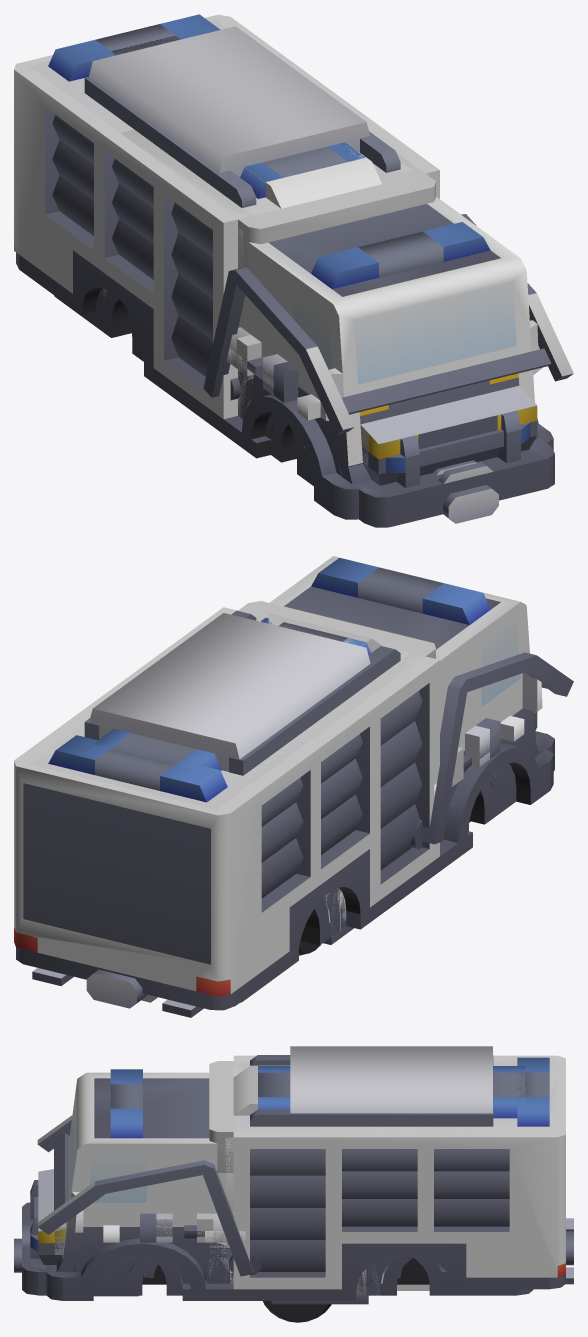
The model's file is cars.glb.
The picture shows the model from 3 angles, top to bottom: view 1: azimuth 30°, elevation 25°; view 2: azimuth 150°, elevation 25°; view 3: azimuth 270°, elevation 25°; orthographic projection. The views are drawn at different scales.
Visible parts, largest first — view 1: firetruck_body, firetruck_paint, ambulance_body, garbage-truck_body, garbage-truck_paint, delivery_body, sedan_body, suv_body, van_paint; view 2: firetruck_body, firetruck_paint, ambulance_body, garbage-truck_body, garbage-truck_paint, hatchback-sports_body, sedan_body, delivery_body; view 3: firetruck_body, firetruck_paint, ambulance_body, garbage-truck_body, garbage-truck_paint, hatchback-sports_body, sedan_body, delivery_body, suv-luxury_body, sedan_wheel, suv_body, truck_body (+4 smaller).
Part boxes in pixels (x1=…): firetruck_body: x1=16, y1=14, x2=553, y2=519; firetruck_paint: x1=14, y1=14, x2=542, y2=466; ambulance_body: x1=29, y1=20, x2=476, y2=475; garbage-truck_body: x1=89, y1=214, x2=572, y2=527; garbage-truck_paint: x1=100, y1=129, x2=573, y2=429; delivery_body: x1=95, y1=288, x2=538, y2=485; sedan_body: x1=75, y1=311, x2=310, y2=483; suv_body: x1=95, y1=288, x2=310, y2=466; van_paint: x1=236, y1=335, x2=261, y2=375; firetruck_body: x1=14, y1=558, x2=553, y2=1010; firetruck_paint: x1=14, y1=556, x2=542, y2=993; ambulance_body: x1=29, y1=608, x2=518, y2=1002; garbage-truck_body: x1=32, y1=652, x2=573, y2=1017; garbage-truck_paint: x1=238, y1=601, x2=435, y2=742; hatchback-sports_body: x1=322, y1=767, x2=515, y2=937; sedan_body: x1=263, y1=778, x2=499, y2=986; delivery_body: x1=124, y1=725, x2=538, y2=975; firetruck_body: x1=22, y1=1055, x2=573, y2=1300; firetruck_paint: x1=62, y1=1055, x2=565, y2=1289; ambulance_body: x1=56, y1=1046, x2=557, y2=1300; garbage-truck_body: x1=14, y1=1120, x2=573, y2=1295; garbage-truck_paint: x1=37, y1=1061, x2=446, y2=1277; hatchback-sports_body: x1=95, y1=1239, x2=402, y2=1295; sedan_body: x1=119, y1=1239, x2=484, y2=1295; delivery_body: x1=54, y1=1213, x2=451, y2=1283; suv-luxury_body: x1=93, y1=1247, x2=474, y2=1295; sedan_wheel: x1=263, y1=1301, x2=331, y2=1322; suv_body: x1=104, y1=1238, x2=451, y2=1283; truck_body: x1=94, y1=1241, x2=533, y2=1295.
Bounding box in the file's own units: 2.16 × 2.84 × 5.87.
